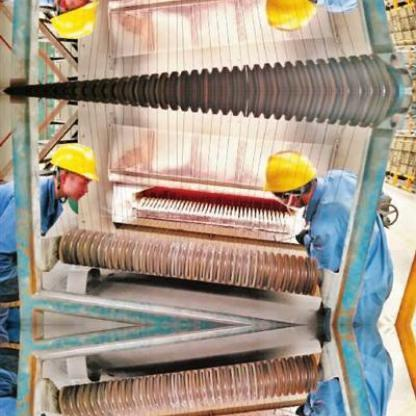helmet: (263, 151, 319, 196), (54, 142, 100, 188)
